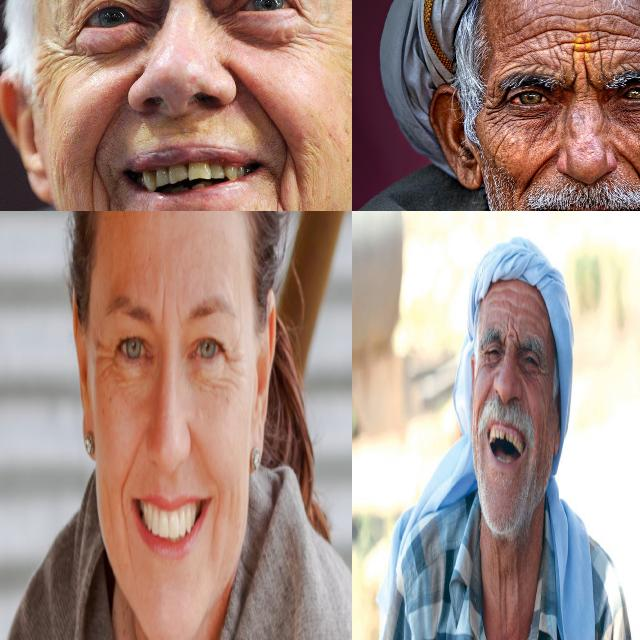crows_feet: (46, 22, 80, 76), (291, 8, 327, 56), (224, 348, 240, 392), (95, 335, 113, 374), (484, 94, 508, 122), (537, 359, 547, 383), (478, 352, 488, 370)
forehead: (576, 10, 614, 40), (508, 49, 546, 75), (508, 8, 534, 42), (614, 40, 640, 73), (542, 13, 570, 42), (619, 8, 640, 44), (564, 48, 598, 70), (490, 298, 509, 318), (515, 300, 534, 318), (515, 284, 533, 301), (492, 282, 509, 299)
frown_line: (566, 66, 600, 98), (157, 286, 166, 328), (511, 323, 522, 349), (173, 298, 180, 333), (501, 325, 509, 353)
gummy_smile: (228, 67, 288, 146), (85, 90, 123, 166), (120, 428, 146, 486), (521, 154, 551, 192), (621, 152, 640, 190), (206, 461, 219, 490), (481, 384, 492, 407), (526, 396, 534, 426)
masseter: (485, 134, 509, 162)
sad_smile: (270, 162, 305, 211), (88, 169, 125, 211), (122, 514, 134, 572), (207, 494, 219, 551)
